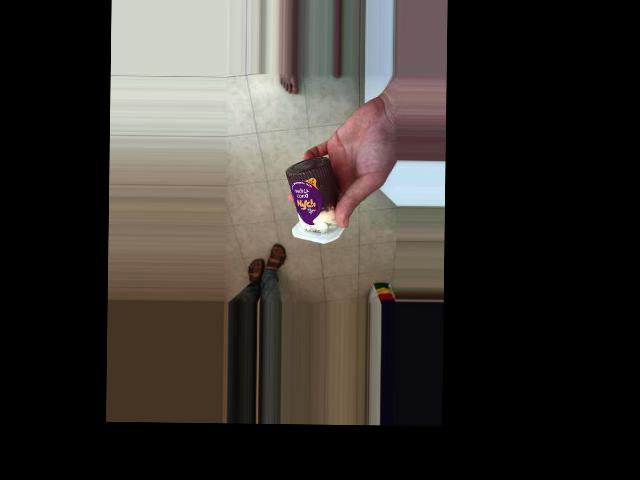milky: (292, 159, 349, 237)
